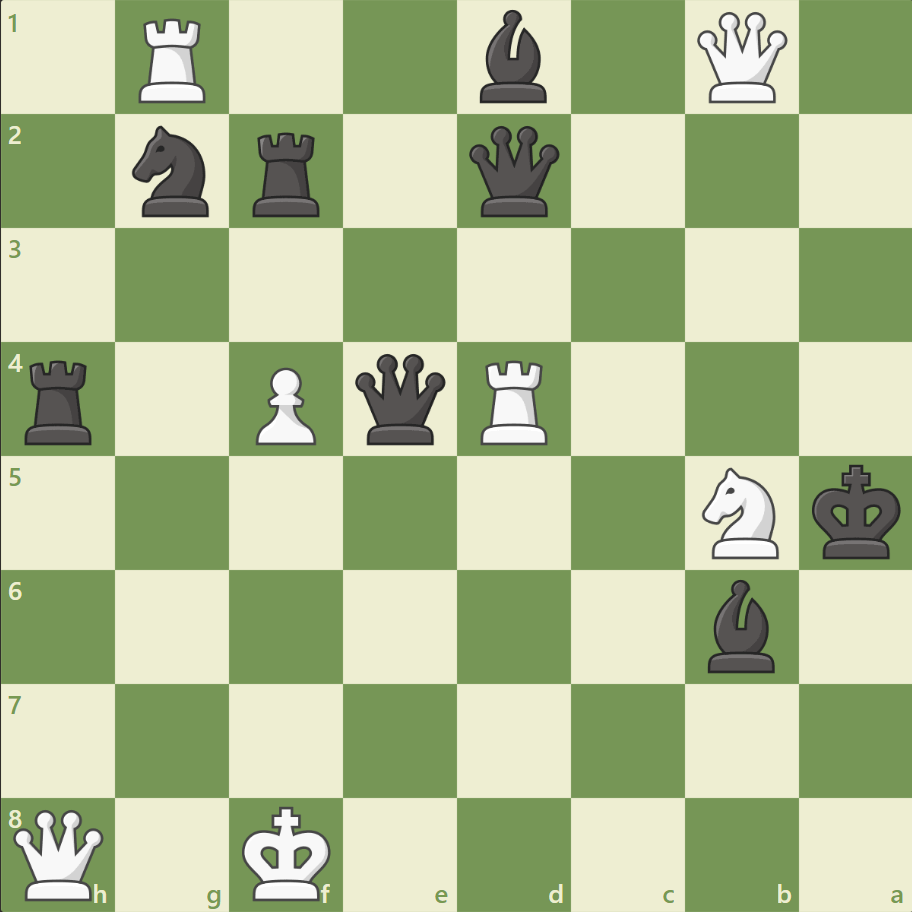K: (238, 798, 338, 906)
N: (692, 461, 789, 564)
P: (247, 359, 322, 450)
Q: (10, 804, 109, 903), (691, 9, 790, 108)
R: (473, 352, 556, 449), (133, 12, 215, 109)
b: (471, 6, 555, 109), (698, 574, 782, 676)
k: (806, 458, 906, 566)
n: (124, 121, 222, 223)
q: (351, 349, 450, 449), (464, 122, 563, 222)
r: (19, 352, 102, 449), (246, 125, 329, 222)
